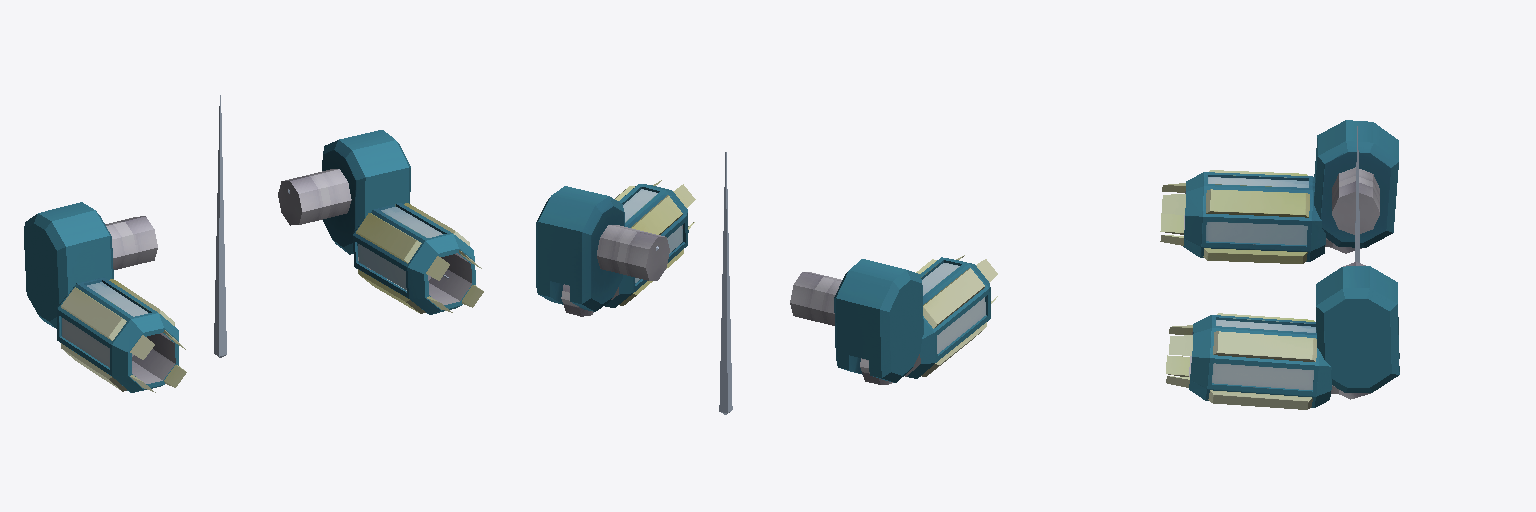
3 renders of one model, left to right at view 1: azimuth 30°, elevation 25°; view 2: azimuth 150°, elevation 25°; view 3: azimuth 270°, elevation 25°, orthographic.
Visible parts, largest first — view 1: Object009, Object010, Object007, Object008, Object005, Object006, Bone001; view 2: Object007, Object008, Object009, Object010, Object005, Object006, Bone001; view 3: Object009, Object010, Object008, Object007, Object006.
Part boxes in pixels (left/top/right/bottom): Object009: left=57, top=277, right=186, bottom=392; Object010: left=353, top=203, right=483, bottom=314; Object007: left=24, top=202, right=113, bottom=328; Object008: left=322, top=130, right=410, bottom=254; Object005: left=278, top=169, right=351, bottom=225; Object006: left=105, top=216, right=157, bottom=269; Bone001: left=214, top=95, right=226, bottom=357; Object007: left=834, top=259, right=923, bottom=382; Object008: left=536, top=186, right=624, bottom=311; Object009: left=860, top=255, right=997, bottom=384; Object010: left=561, top=180, right=695, bottom=316; Object005: left=597, top=225, right=669, bottom=280; Object006: left=790, top=272, right=841, bottom=325; Bone001: left=719, top=152, right=732, bottom=414; Object009: left=1160, top=170, right=1361, bottom=263; Object010: left=1166, top=313, right=1370, bottom=409; Object008: left=1316, top=266, right=1399, bottom=392; Object007: left=1314, top=120, right=1398, bottom=247; Object006: left=1332, top=167, right=1379, bottom=234.
Size of the model in its own units: 175 by 120 by 98.61.
2 materials, 1 textured.